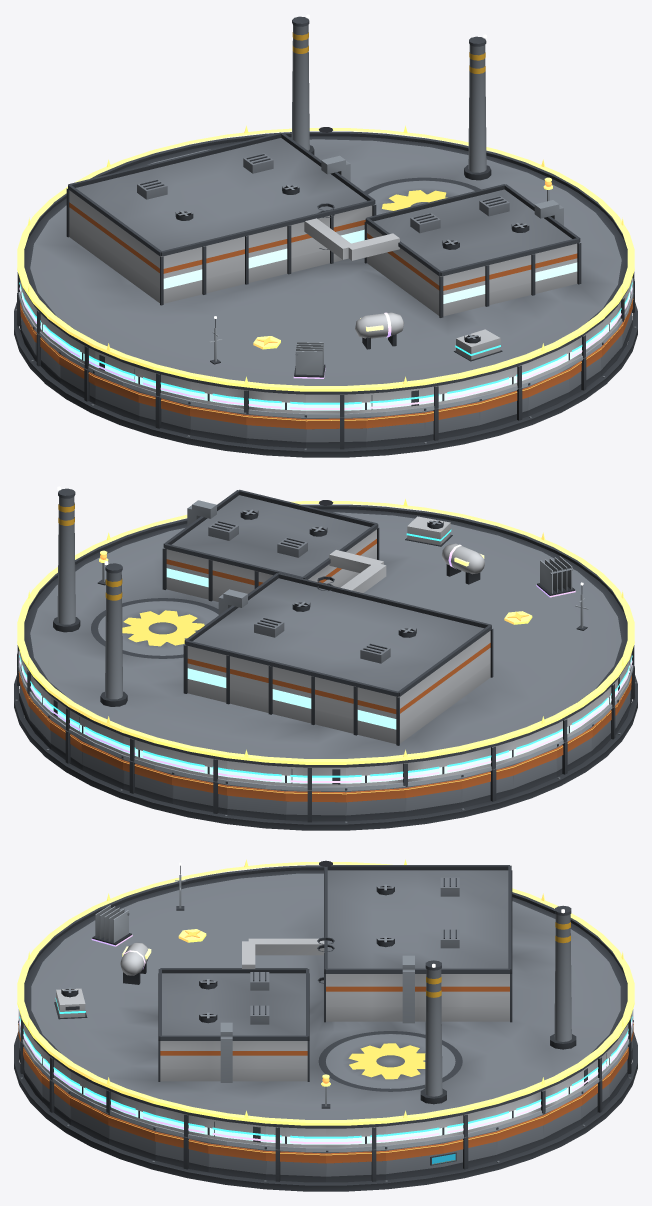
The model's file is electronics_fab_xl.glb.
The picture shows the model from 3 angles, top to bottom: view 1: azimuth 30°, elevation 25°; view 2: azimuth 150°, elevation 25°; view 3: azimuth 270°, elevation 25°; orthographic projection.
Parts seen in each view (by area): view 1: Roof, Base, L4, Wall_21, Wall_20, Wall_22, Wall_19, Wall_23, Wall_18, Wall_24, Wall_17, Wall_25 (+15 smaller); view 2: Roof, Base, L4, Wall_10, Wall_11, Wall_09, Wall_12, Wall_08, Wall_13, Wall_07, Wall_14, Wall_06 (+19 smaller); view 3: Roof, Base, L4, Wall_00, Wall_31, Wall_30, Wall_01, Wall_29, Wall_02, Wall_28, Wall_03, Wall_27 (+19 smaller).
Boxes of the visible parts, <box> form: Roof: <box>24,14,627,394</box>; Base: <box>14,302,637,457</box>; L4: <box>293,312,403,378</box>; Wall_21: <box>306,417,366,449</box>; Wall_20: <box>246,412,305,448</box>; Wall_22: <box>366,411,424,447</box>; Wall_19: <box>189,405,246,443</box>; Wall_23: <box>424,401,479,441</box>; Wall_18: <box>138,391,190,434</box>; Wall_24: <box>479,386,528,430</box>; Wall_17: <box>94,374,139,421</box>; Wall_25: <box>528,368,570,416</box>; Roof: <box>24,486,627,767</box>; Base: <box>14,675,637,830</box>; L4: <box>442,543,575,597</box>; Wall_10: <box>285,790,345,822</box>; Wall_11: <box>346,787,405,821</box>; Wall_09: <box>227,784,285,820</box>; Wall_12: <box>405,778,462,816</box>; Wall_08: <box>172,772,227,814</box>; Wall_13: <box>461,764,513,807</box>; Wall_07: <box>123,759,172,803</box>; Wall_14: <box>512,747,557,794</box>; Wall_06: <box>81,741,123,789</box>; Roof: <box>24,860,627,1128</box>; Base: <box>14,1032,637,1191</box>; L4: <box>91,905,151,984</box>; Wall_00: <box>326,1149,385,1182</box>; Wall_31: <box>266,1149,325,1182</box>; Wall_30: <box>208,1142,265,1179</box>; Wall_01: <box>386,1142,443,1179</box>; Wall_29: <box>155,1131,208,1172</box>; Wall_02: <box>443,1131,496,1172</box>; Wall_28: <box>108,1113,155,1160</box>; Wall_03: <box>496,1114,543,1160</box>; Wall_27: <box>70,1095,108,1143</box>.
Size of the model in its own units: 23.15 by 8.19 by 23.15.
